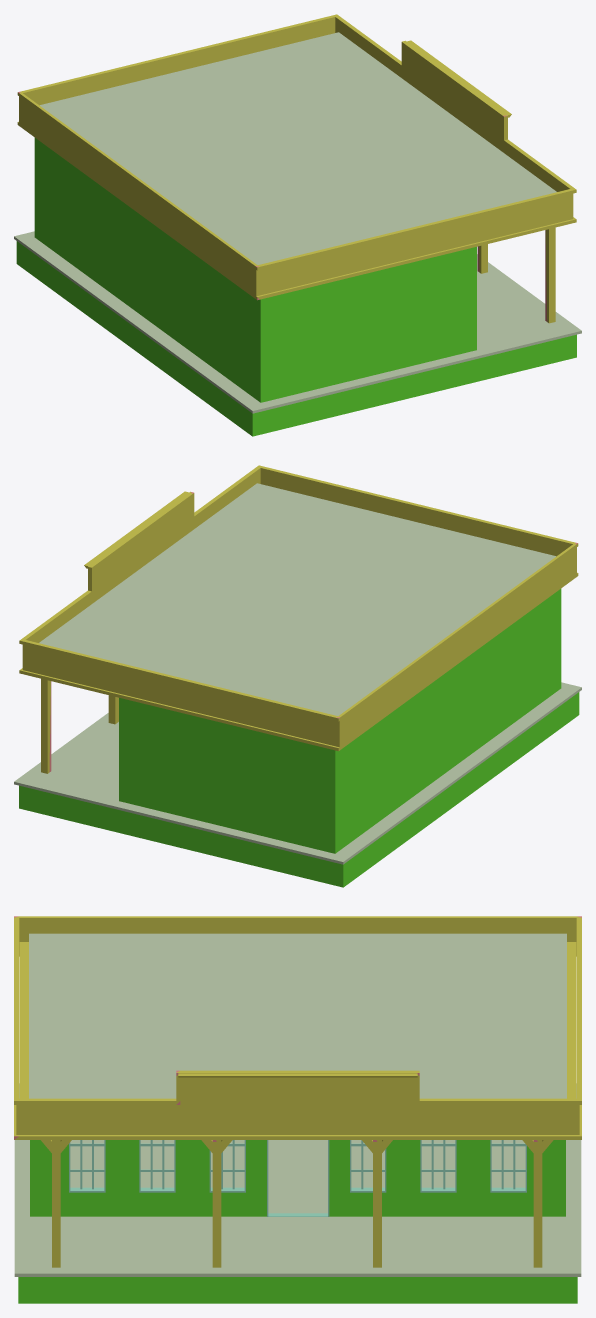
Rendered from Sheriff Office.fbx.
The picture shows the model from 3 angles, top to bottom: view 1: azimuth 30°, elevation 25°; view 2: azimuth 150°, elevation 25°; view 3: azimuth 270°, elevation 25°; orthographic projection. The views are drawn at different scales.
Visible parts, largest first — view 1: 002-0-2, 000-0-0, 003-0-3; view 2: 002-0-2, 000-0-0, 003-0-3; view 3: 002-0-2, 003-0-3, 000-0-0, 001-0-1.
Boxes of the visible parts, box(x1,y1,x2,y2) form: 002-0-2: box(14, 32, 581, 413); 000-0-0: box(16, 137, 576, 436); 003-0-3: box(17, 14, 576, 323); 002-0-2: box(14, 483, 581, 864); 000-0-0: box(19, 588, 579, 887); 003-0-3: box(19, 465, 578, 773); 002-0-2: box(14, 933, 581, 1276); 003-0-3: box(14, 916, 581, 1267); 000-0-0: box(18, 1140, 577, 1303); 001-0-1: box(69, 1140, 526, 1216).
Size of the model in its own units: 1153 by 648 by 1453.
